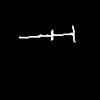double_crochet: (19, 26, 74, 41)
